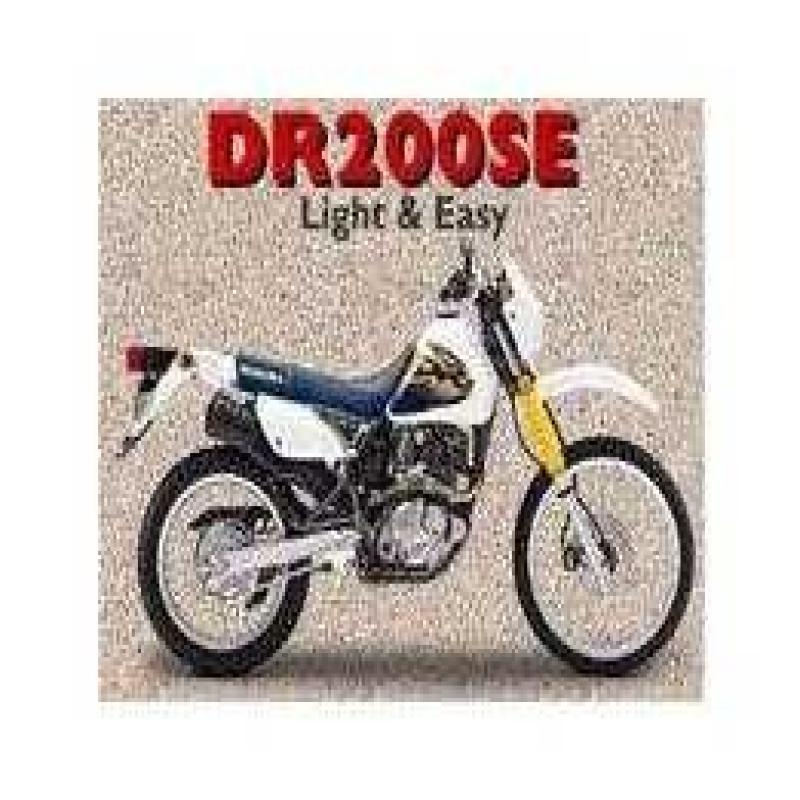bike: (125, 245, 702, 680)
